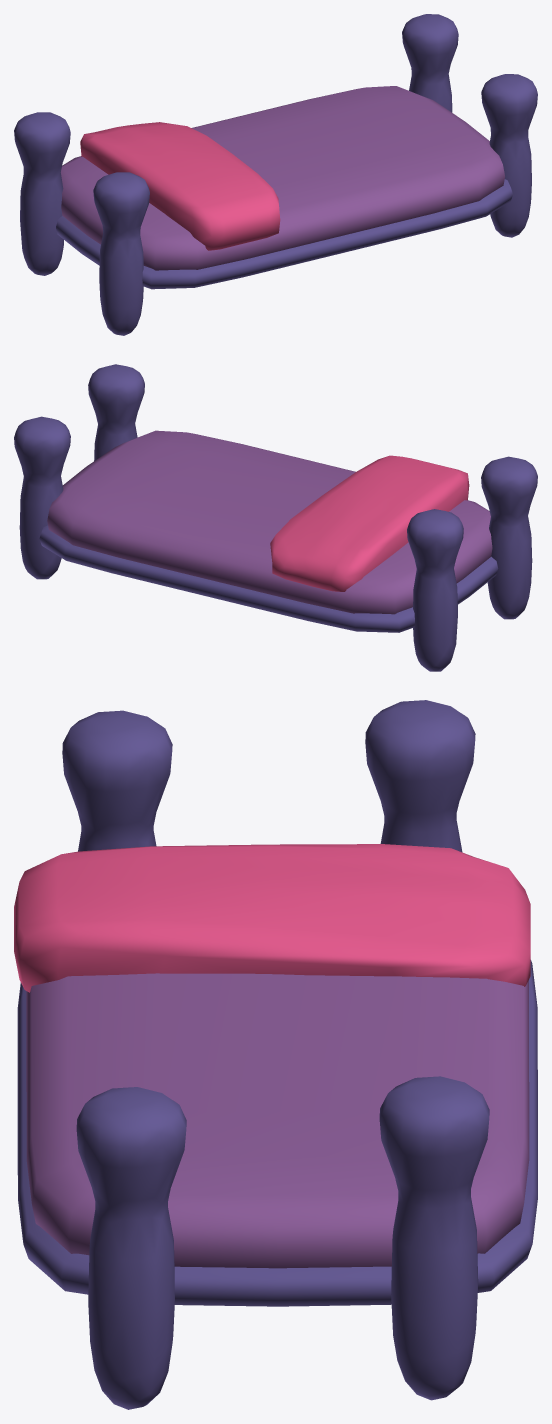
File: bed.glb
3 renders of one model, top to bottom at view 1: azimuth 30°, elevation 25°; view 2: azimuth 150°, elevation 25°; view 3: azimuth 270°, elevation 25°, orthographic. The views are drawn at different scales.
Parts seen in each view (by area): view 1: bed; view 2: bed; view 3: bed.
Boxes of the visible parts, box(x1,y1,x2,y2) form: bed: box(14, 14, 537, 335); bed: box(14, 364, 537, 671); bed: box(14, 700, 537, 1409).
Size of what is drawn, in the model's own units: 3.55 by 1.25 by 1.85.
